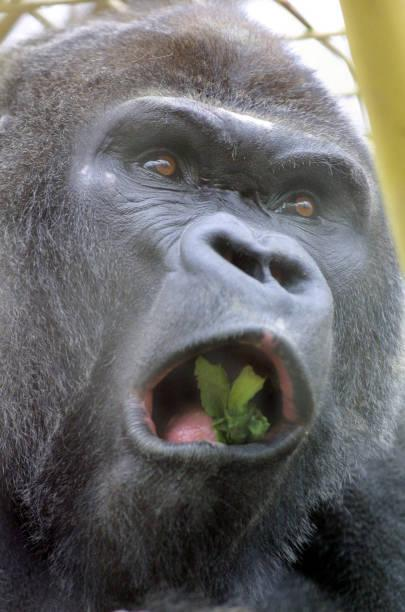gorille_Autres: (3, 0, 404, 612)
